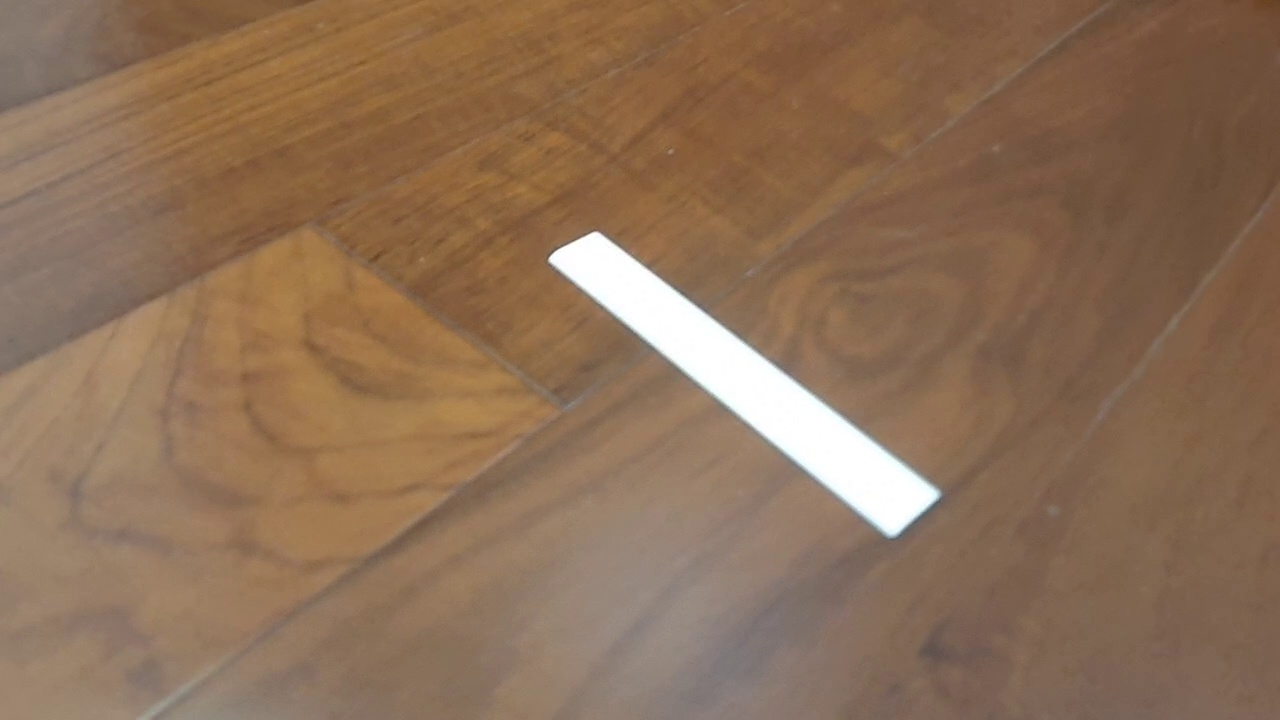ruler: (547, 229, 945, 542)
